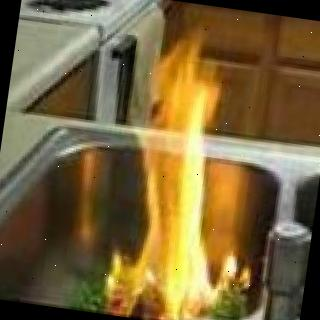fire: (101, 16, 269, 320)
